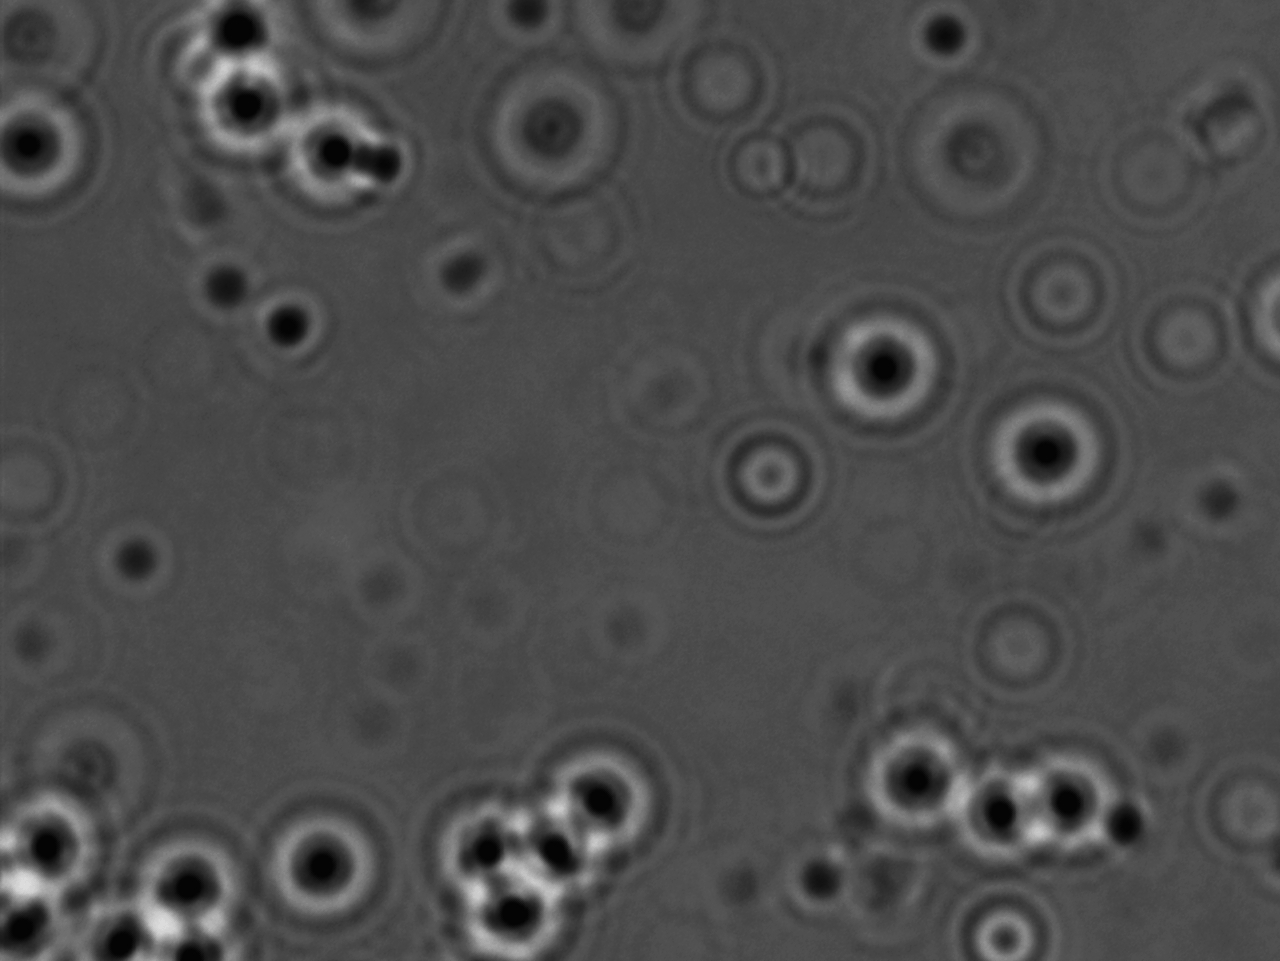depth:-24: (808, 285, 971, 455), (530, 714, 679, 860), (848, 712, 978, 850), (1007, 731, 1139, 864), (979, 385, 1111, 515), (122, 814, 251, 944), (259, 802, 383, 936), (940, 753, 1062, 881)
